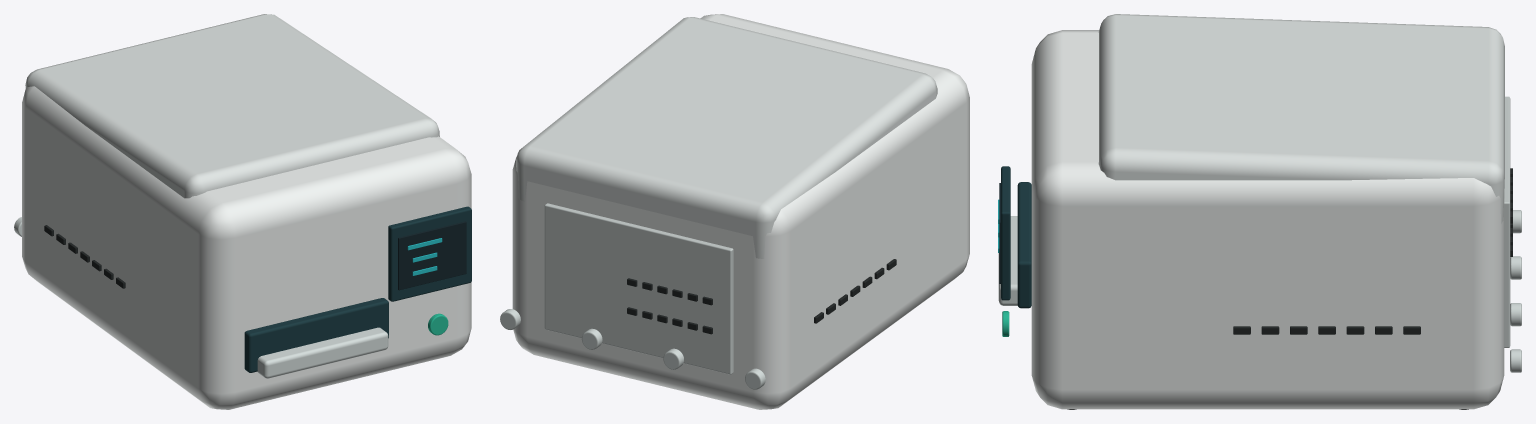
File: plate-reader.glb
3 renders of one model, left to right at view 1: azimuth 30°, elevation 25°; view 2: azimuth 150°, elevation 25°; view 3: azimuth 270°, elevation 25°, orthographic. The views are drawn at different scales.
Parts seen in each view (by area): view 1: Runtime batch - Cool white instrument polymer, Runtime batch - Light bead-blasted aluminum, Runtime batch - Smoked control display, Runtime batch - Smoked instrument display glass, Runtime batch - Brushed analytical silver, Runtime batch - Casework seam shadow, Runtime batch - Teal status display graphics; view 2: Runtime batch - Cool white instrument polymer, Runtime batch - Light bead-blasted aluminum, Runtime batch - Light instrument gray powder coat, Runtime batch - Casework seam shadow, Runtime batch - Brushed analytical silver; view 3: Runtime batch - Cool white instrument polymer, Runtime batch - Light bead-blasted aluminum, Runtime batch - Smoked control display, Runtime batch - Brushed analytical silver, Runtime batch - Light instrument gray powder coat, Runtime batch - Casework seam shadow.
Part boxes in pixels (box(x1,y1,x2,y2)): Runtime batch - Cool white instrument polymer: box(22, 86, 471, 409); Runtime batch - Light bead-blasted aluminum: box(25, 14, 439, 198); Runtime batch - Smoked control display: box(244, 206, 471, 372); Runtime batch - Smoked instrument display glass: box(398, 221, 466, 290); Runtime batch - Brushed analytical silver: box(14, 217, 388, 378); Runtime batch - Casework seam shadow: box(44, 225, 125, 288); Runtime batch - Teal status display graphics: box(407, 238, 442, 275); Runtime batch - Cool white instrument polymer: box(512, 14, 969, 409); Runtime batch - Light bead-blasted aluminum: box(516, 17, 937, 258); Runtime batch - Light instrument gray powder coat: box(544, 203, 733, 374); Runtime batch - Casework seam shadow: box(627, 259, 896, 334); Runtime batch - Brushed analytical silver: box(500, 309, 765, 389); Runtime batch - Cool white instrument polymer: box(1031, 30, 1504, 409); Runtime batch - Light bead-blasted aluminum: box(1098, 14, 1504, 223); Runtime batch - Smoked control display: box(1001, 166, 1031, 308); Runtime batch - Brushed analytical silver: box(998, 210, 1521, 372); Runtime batch - Light instrument gray powder coat: box(1504, 96, 1510, 347); Runtime batch - Casework seam shadow: box(1233, 168, 1512, 334).
Size of the model in its own units: 0.29 by 0.2195 by 0.4.
